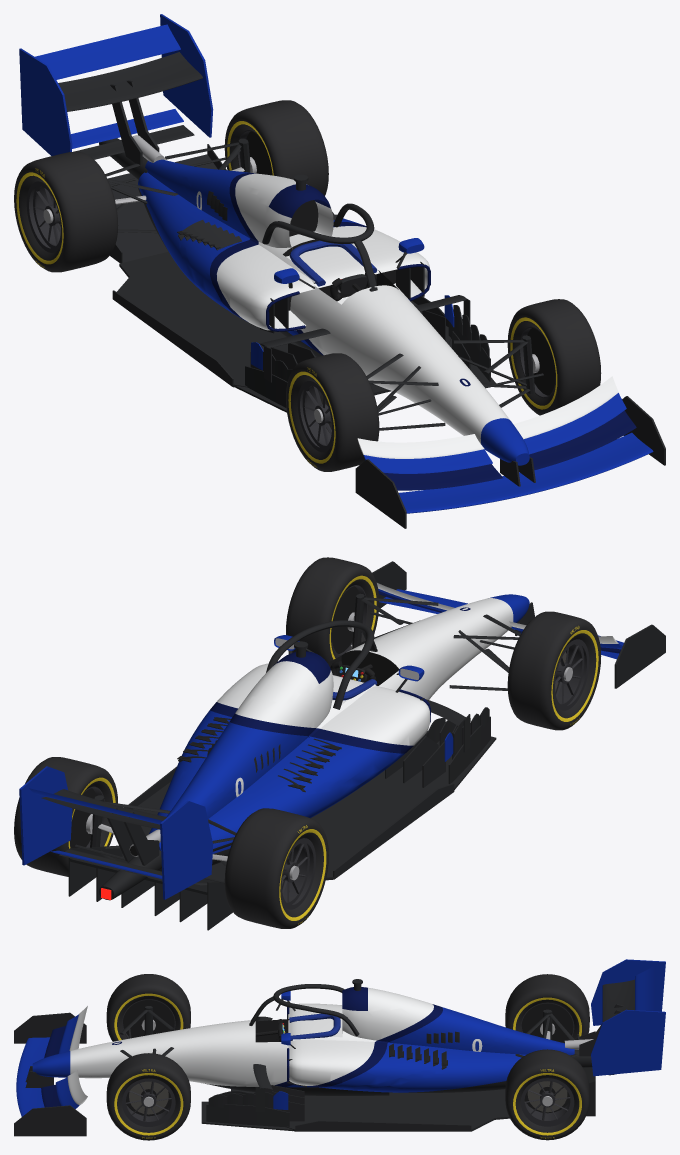
Rendered from f1-car.glb.
3 views of the same model, one above another, from view 1: azimuth 30°, elevation 25°; view 2: azimuth 150°, elevation 25°; view 3: azimuth 270°, elevation 25° (orthographic). The views are drawn at different scales.
Parts seen in each view (by area): view 1: Body, Wheel_RL, Wheel_FL, Wheel_FR, Wheel_RR, DRS_Flap; view 2: Body, Wheel_RL, Wheel_FL, Wheel_FR, Wheel_RR, DRS_Flap; view 3: Body, Wheel_RR, Wheel_FR, Wheel_RL, Wheel_FL, DRS_Flap, Upright_FL.
Part boxes in pixels (left/top/right/bottom): Body: left=19, top=14, right=665, bottom=528; Wheel_RL: left=14, top=151, right=118, bottom=272; Wheel_FL: left=286, top=353, right=379, bottom=471; Wheel_FR: left=507, top=299, right=601, bottom=415; Wheel_RR: left=224, top=100, right=328, bottom=195; DRS_Flap: left=35, top=24, right=180, bottom=79; Body: left=19, top=561, right=665, bottom=930; Wheel_RL: left=224, top=808, right=328, bottom=928; Wheel_FL: left=507, top=611, right=601, bottom=730; Wheel_FR: left=286, top=557, right=379, bottom=662; Wheel_RR: left=14, top=757, right=117, bottom=876; DRS_Flap: left=29, top=788, right=162, bottom=824; Body: left=14, top=959, right=665, bottom=1136; Wheel_RR: left=505, top=1049, right=589, bottom=1140; Wheel_FR: left=106, top=1053, right=190, bottom=1140; Wheel_RL: left=505, top=974, right=589, bottom=1042; Wheel_FL: left=106, top=974, right=190, bottom=1041; DRS_Flap: left=635, top=965, right=654, bottom=1011; Upright_FL: left=141, top=1006, right=155, bottom=1035.
Bounding box in the file's own units: 1.9 × 1.08 × 5.56.
